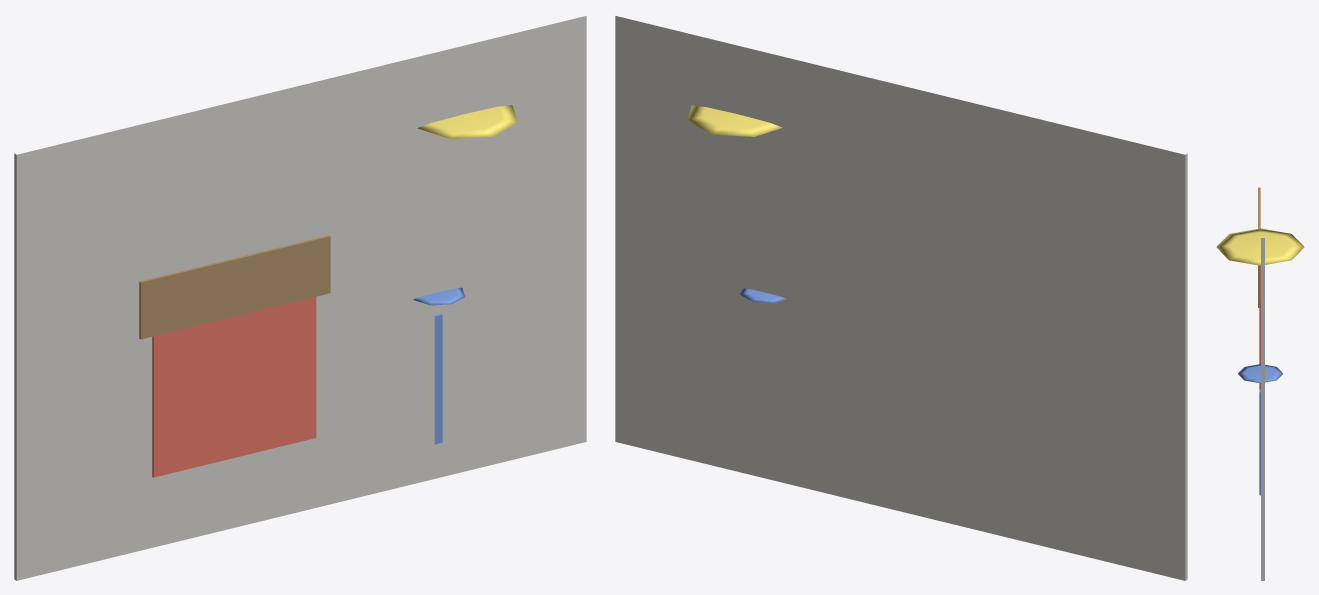
The model's file is drawing_0.glb.
3 renders of one model, left to right at view 1: azimuth 30°, elevation 25°; view 2: azimuth 150°, elevation 25°; view 3: azimuth 270°, elevation 25°, orthographic. The views are drawn at different scales.
Visible parts, largest first — view 1: drawing_0; view 2: drawing_0; view 3: drawing_0.
Boxes of the visible parts, x1,y1,x2,y2 form: drawing_0: (14, 16, 586, 580); drawing_0: (615, 16, 1187, 580); drawing_0: (1216, 187, 1304, 580).
Size of the model in its own units: 0.42 by 0.3 by 0.0702.
